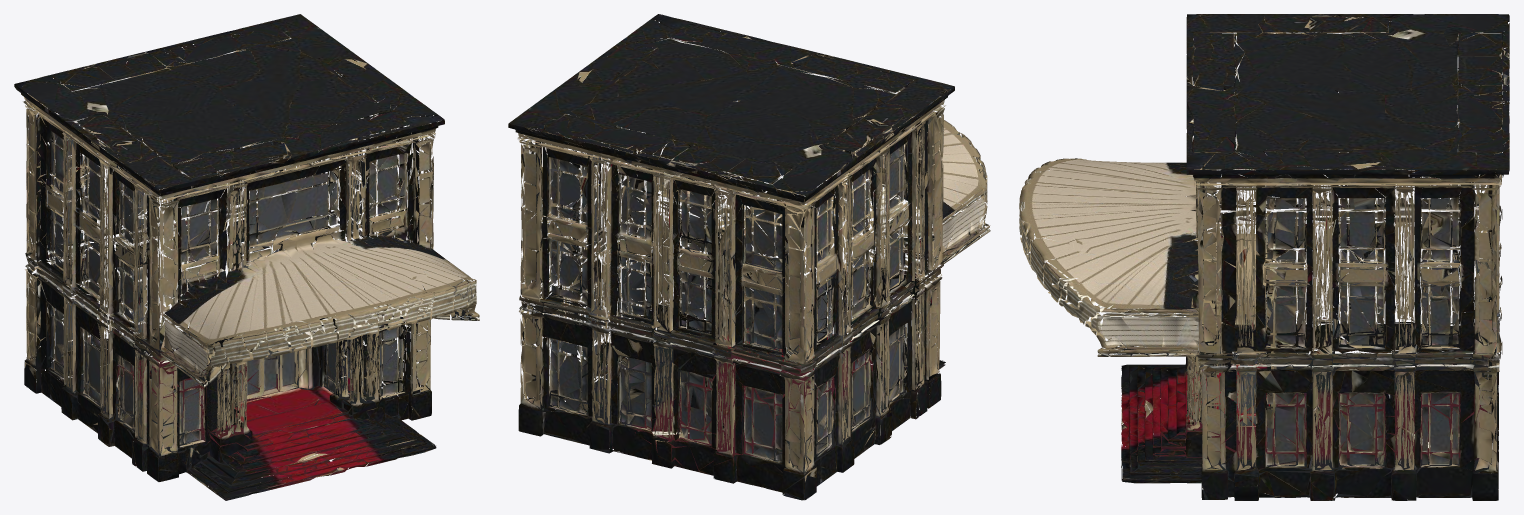
The model's file is casino.glb.
3 views of the same model, side by side, from view 1: azimuth 30°, elevation 25°; view 2: azimuth 150°, elevation 25°; view 3: azimuth 270°, elevation 25° (orthographic). The views are drawn at different scales.
Size of the model in its own units: 1.42 by 1.42 by 1.89.
1 material, 1 textured.
